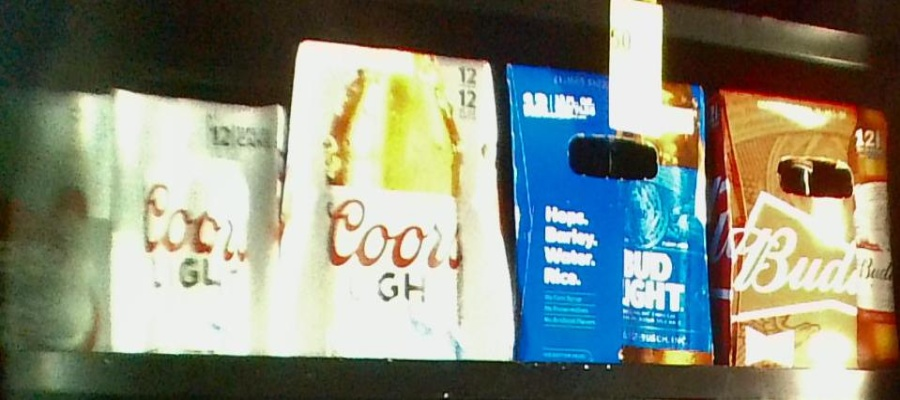bottle: (290, 39, 507, 364), (509, 63, 716, 365), (720, 83, 900, 366), (109, 85, 283, 345), (1, 89, 110, 351)
